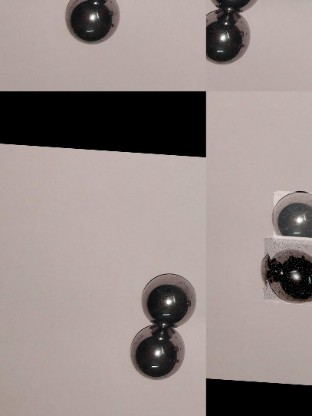ironball: (129, 320, 193, 381), (137, 271, 200, 330), (263, 234, 311, 299), (204, 8, 250, 66), (63, 0, 116, 46), (273, 187, 311, 241)
